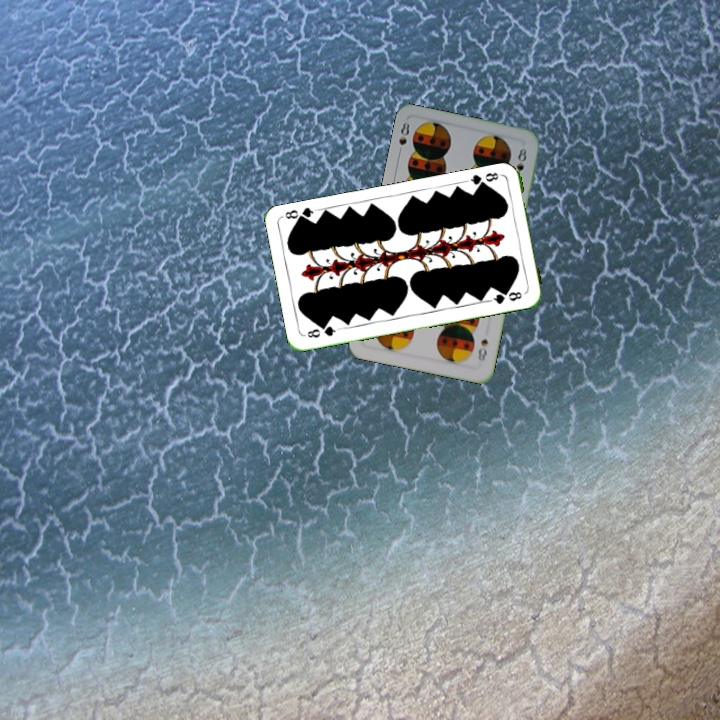G8: (464, 168, 501, 191), (303, 322, 342, 340)
S8: (394, 117, 412, 158), (473, 335, 491, 364)
